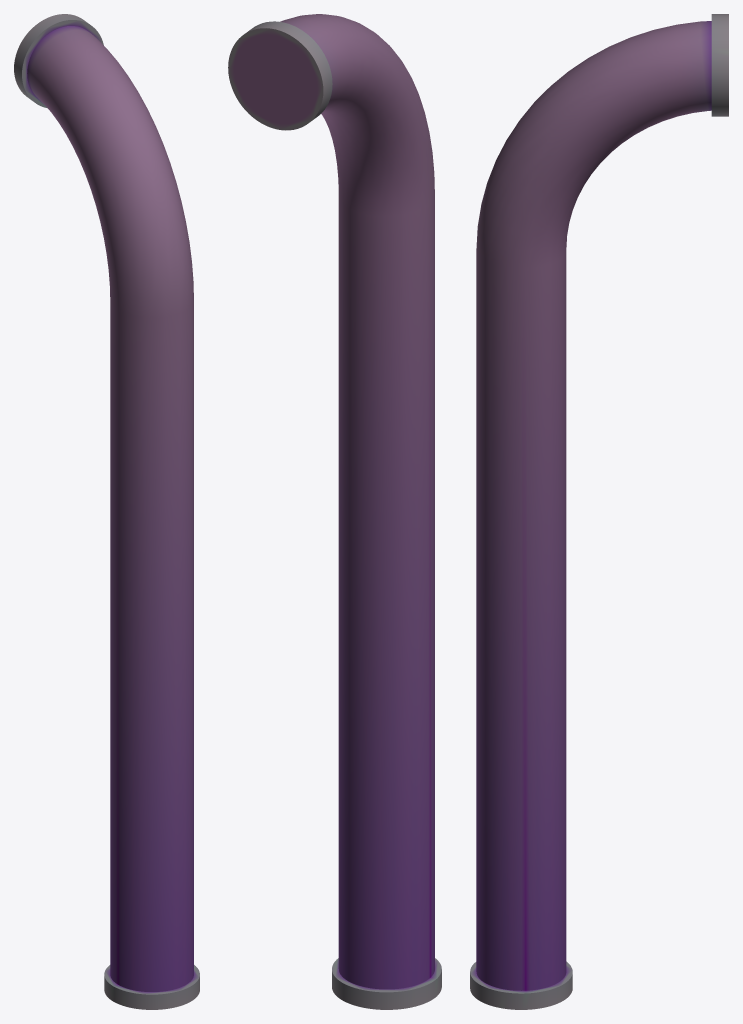
3 views of the same model, side by side, from view 1: azimuth 30°, elevation 25°; view 2: azimuth 150°, elevation 25°; view 3: azimuth 270°, elevation 25° (orthographic). The views are drawn at different scales.
Parts seen in each view (by area): view 1: shaft_and_bend; view 2: shaft_and_bend; view 3: shaft_and_bend.
Part boxes in pixels (x1,y1,x2,y2): shaft_and_bend: (14,14,199,1009); shaft_and_bend: (228,14,441,1009); shaft_and_bend: (470,14,728,1009).
Bounding box in the file's own units: 0.096 × 1 × 0.242.
